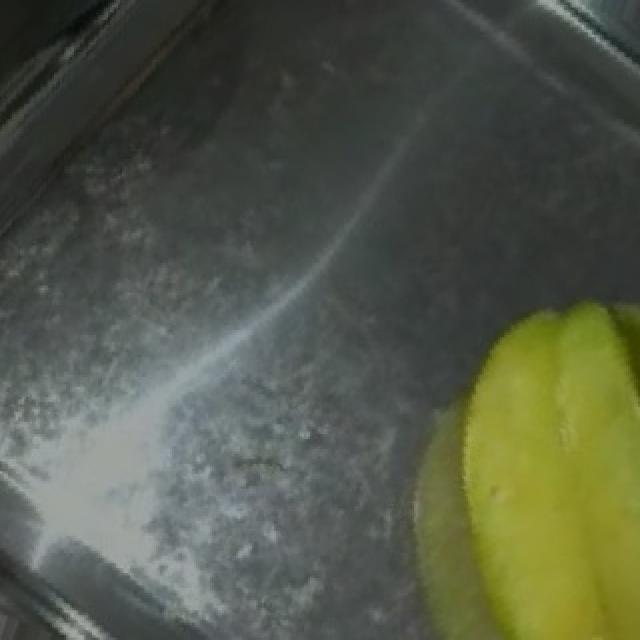fruit: (394, 260, 640, 640)
